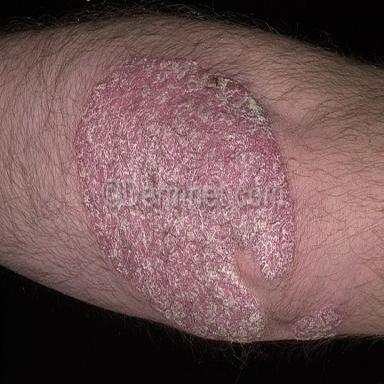Psoriasis: (75, 54, 295, 343), (291, 304, 344, 339)
